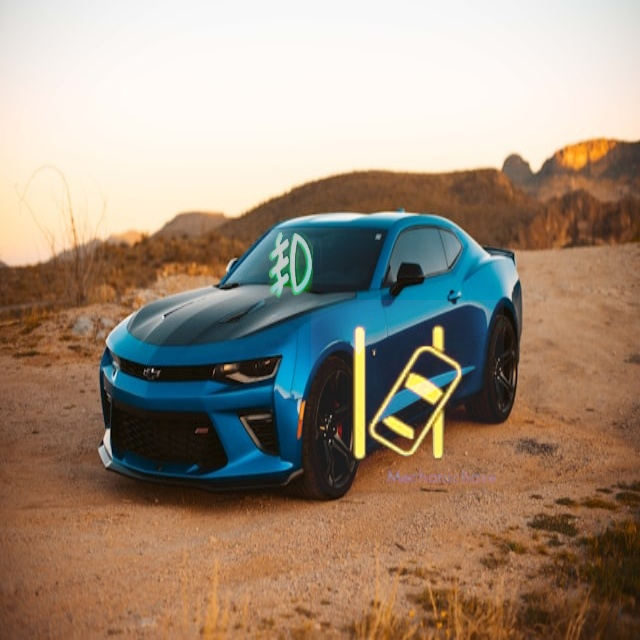symbol: (311, 300, 504, 493), (203, 183, 375, 355)
